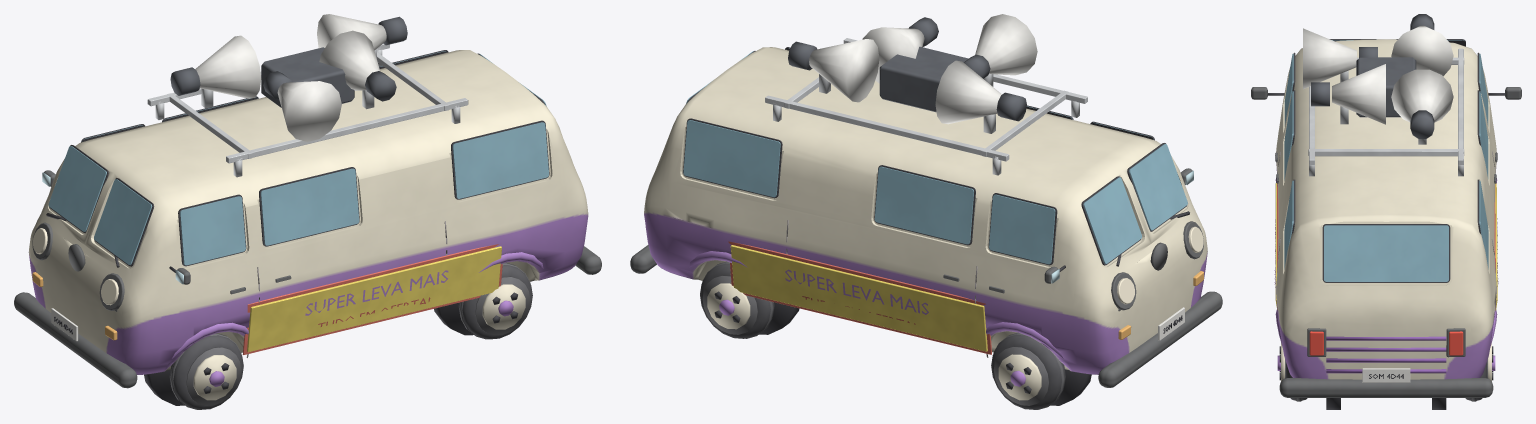
File: Rig_SoundVan.fbx
3 views of the same model, side by side, from view 1: azimuth 30°, elevation 25°; view 2: azimuth 150°, elevation 25°; view 3: azimuth 270°, elevation 25° (orthographic). The views are drawn at different scales.
Parts seen in each view (by area): view 1: Som_Van__Body, Som_Van__Wheel_F_L, Som_Van__Wheel_R_L; view 2: Som_Van__Body, Som_Van__Wheel_F_R, Som_Van__Wheel_R_R; view 3: Som_Van__Body, Som_Van__Wheel_R_R, Som_Van__Wheel_R_L.
Part boxes in pixels (x1,y1,x2,y2): Som_Van__Body: [14, 14, 601, 405]; Som_Van__Wheel_F_L: [169, 333, 243, 409]; Som_Van__Wheel_R_L: [458, 262, 532, 339]; Som_Van__Body: [630, 14, 1222, 405]; Som_Van__Wheel_F_R: [991, 332, 1065, 409]; Som_Van__Wheel_R_R: [700, 261, 774, 338]; Som_Van__Body: [1251, 14, 1521, 409]; Som_Van__Wheel_R_R: [1465, 343, 1495, 401]; Som_Van__Wheel_R_L: [1277, 343, 1307, 401].
Bounding box in the file's own units: 4.49 × 2.67 × 2.26.
